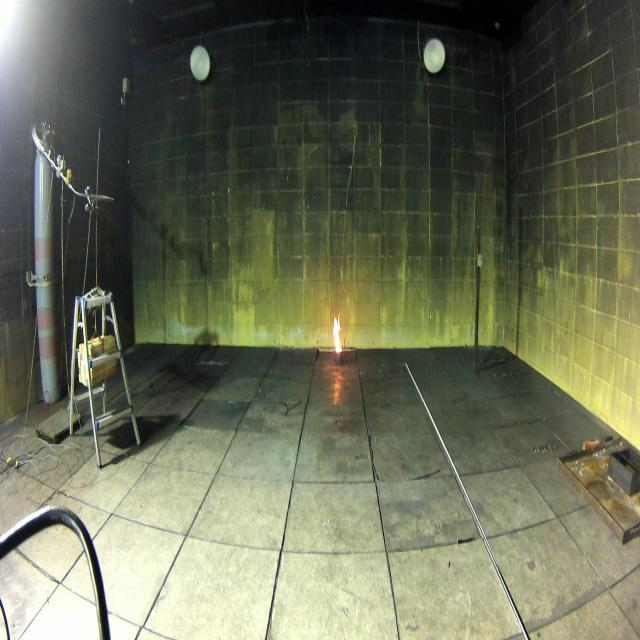Fire: (332, 311, 342, 353)
